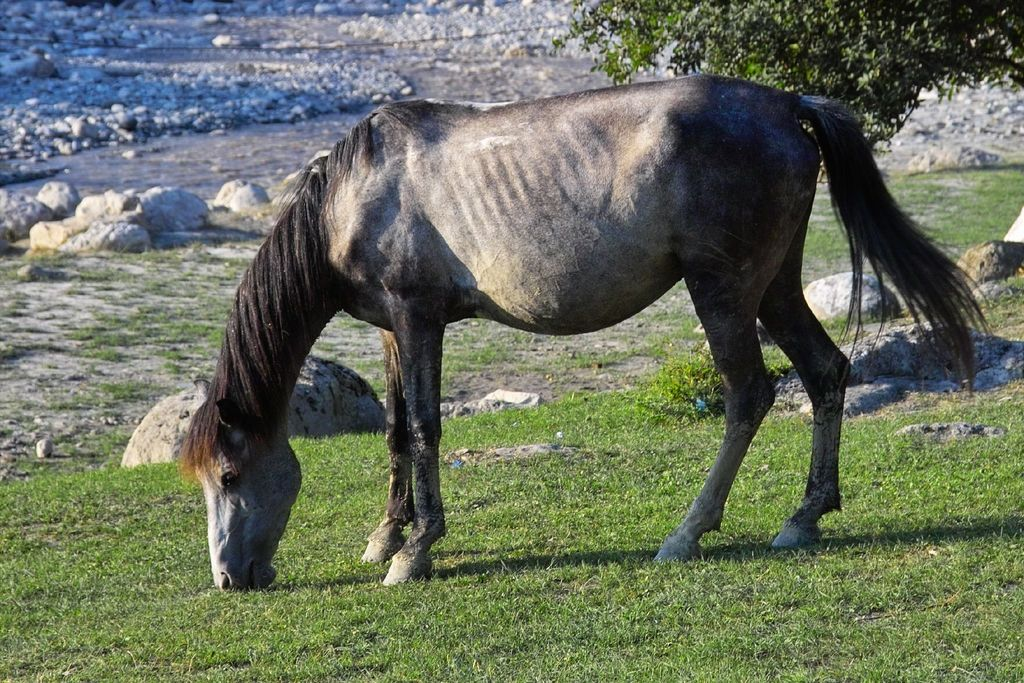horse: (175, 73, 992, 591)
